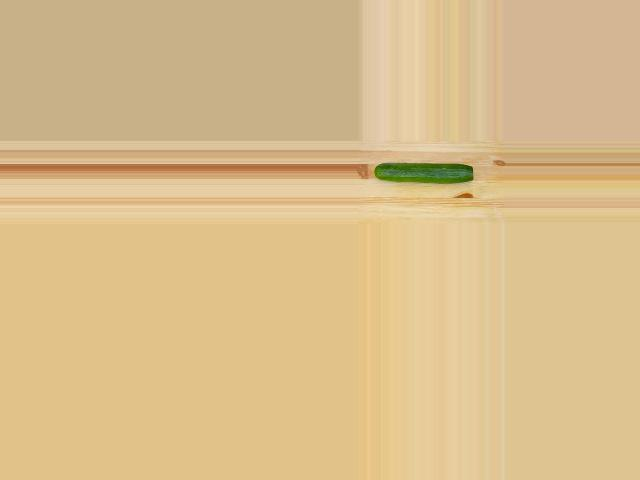cucumber: (374, 163, 472, 183)
